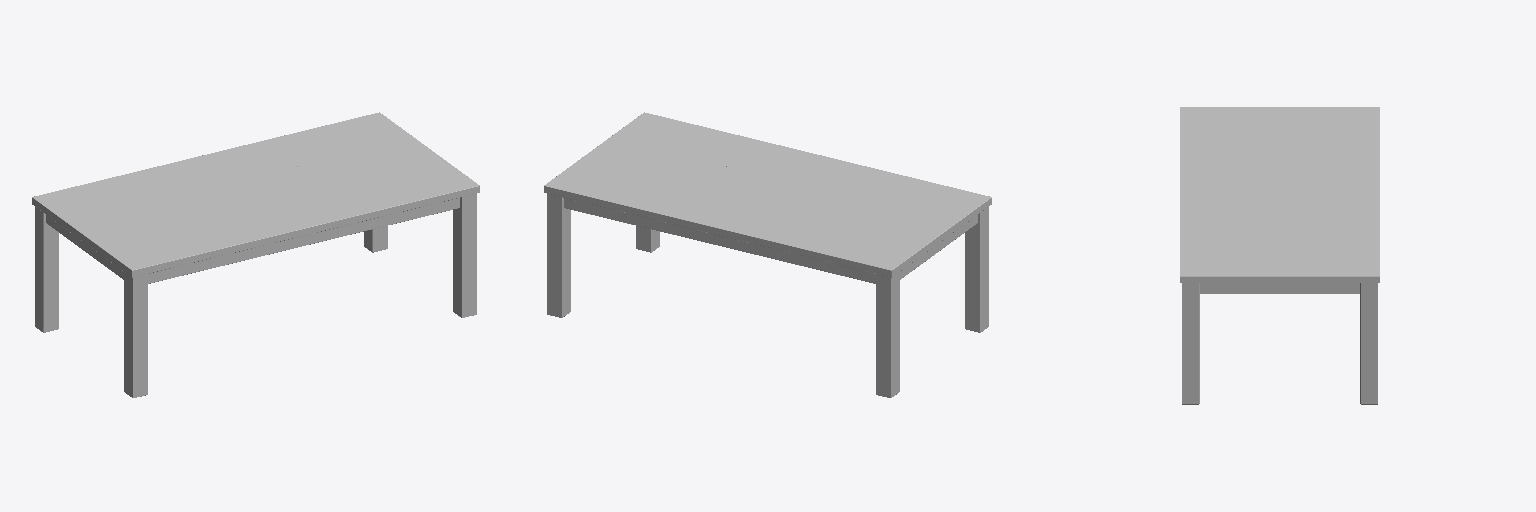
The model's file is table.obj.
3 views of the same model, side by side, from view 1: azimuth 30°, elevation 25°; view 2: azimuth 150°, elevation 25°; view 3: azimuth 270°, elevation 25° (orthographic).
Visible parts, largest first — view 1: wood_plank.1, wood_plank.2, kitchen_table_B.001, side_plank.001, leg.003, leg, leg.002, side_plank.003, leg.001; view 2: wood_plank.2, wood_plank.1, kitchen_table_B.001, side_plank, leg.002, leg.001, leg.003, side_plank.003, leg; view 3: wood_plank.2, wood_plank.1, kitchen_table_B.001, leg.001, leg, side_plank.002.
Boxes of the visible parts, x1=… form: wood_plank.1: x1=97, y1=160, x2=479, y2=277; wood_plank.2: x1=32, y1=112, x2=413, y2=229; kitchen_table_B.001: x1=67, y1=138, x2=443, y2=251; side_plank.001: x1=148, y1=198, x2=459, y2=283; leg.003: x1=124, y1=272, x2=147, y2=397; leg: x1=453, y1=194, x2=476, y2=317; leg.002: x1=35, y1=207, x2=58, y2=332; side_plank.003: x1=46, y1=215, x2=123, y2=279; leg.001: x1=364, y1=226, x2=387, y2=252; wood_plank.2: x1=544, y1=160, x2=926, y2=277; wood_plank.1: x1=610, y1=112, x2=991, y2=229; kitchen_table_B.001: x1=580, y1=138, x2=956, y2=251; side_plank: x1=564, y1=198, x2=875, y2=283; leg.002: x1=876, y1=272, x2=899, y2=397; leg.001: x1=547, y1=194, x2=570, y2=317; leg.003: x1=965, y1=207, x2=988, y2=332; side_plank.003: x1=900, y1=215, x2=977, y2=279; leg: x1=636, y1=226, x2=659, y2=252; wood_plank.2: x1=1310, y1=107, x2=1379, y2=282; wood_plank.1: x1=1180, y1=107, x2=1249, y2=282; kitchen_table_B.001: x1=1250, y1=107, x2=1309, y2=282; leg.001: x1=1360, y1=283, x2=1377, y2=404; leg: x1=1182, y1=283, x2=1199, y2=404; side_plank.002: x1=1200, y1=283, x2=1359, y2=293.
Size of the model in its own units: 2 by 0.71 by 1.